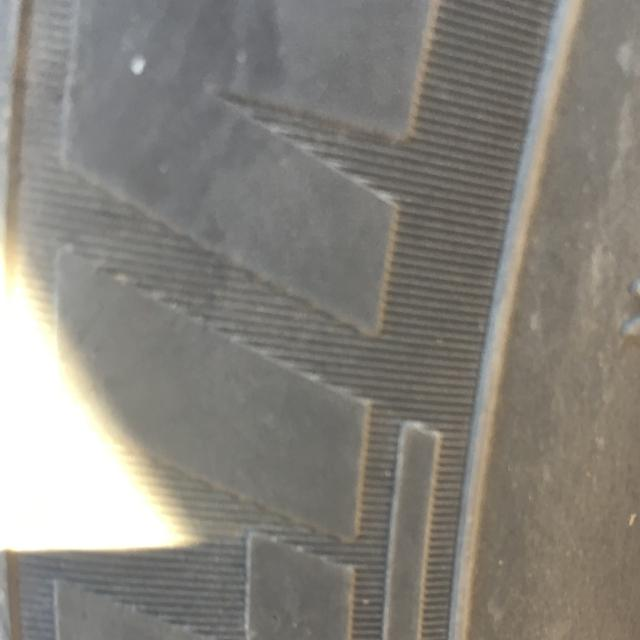Non-defective: (3, 1, 640, 640)
